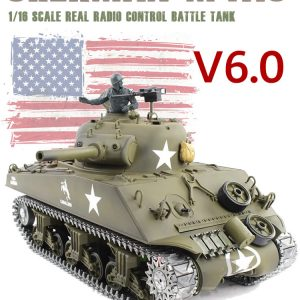Battle Tank: (5, 112, 293, 299)
